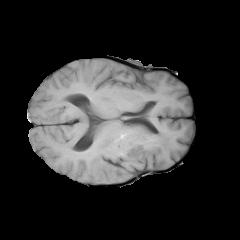glioma: (85, 122, 171, 181)
